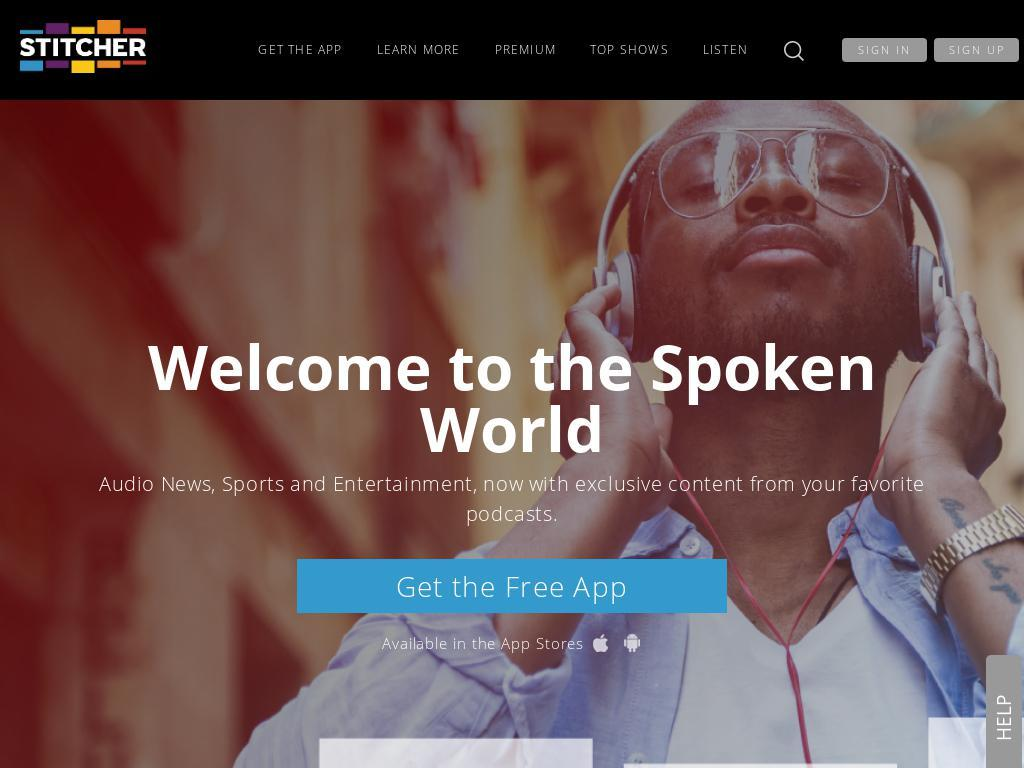button: (297, 559, 727, 613), (258, 0, 343, 100), (376, 0, 461, 100), (589, 0, 669, 100), (494, 0, 556, 100), (702, 0, 748, 100), (986, 655, 1022, 768), (842, 38, 927, 62), (934, 38, 1019, 62), (589, 633, 614, 653), (618, 633, 643, 653)
heading: (51, 335, 973, 459), (51, 469, 973, 529)
image: (20, 20, 146, 74), (773, 32, 813, 70)
text: (395, 567, 628, 605), (381, 633, 584, 653)
